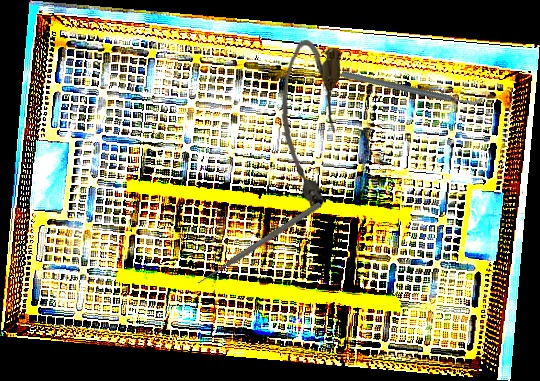Cannula: (276, 38, 342, 210)
Chopper: (339, 22, 484, 152)
Pusher: (195, 199, 323, 288)
